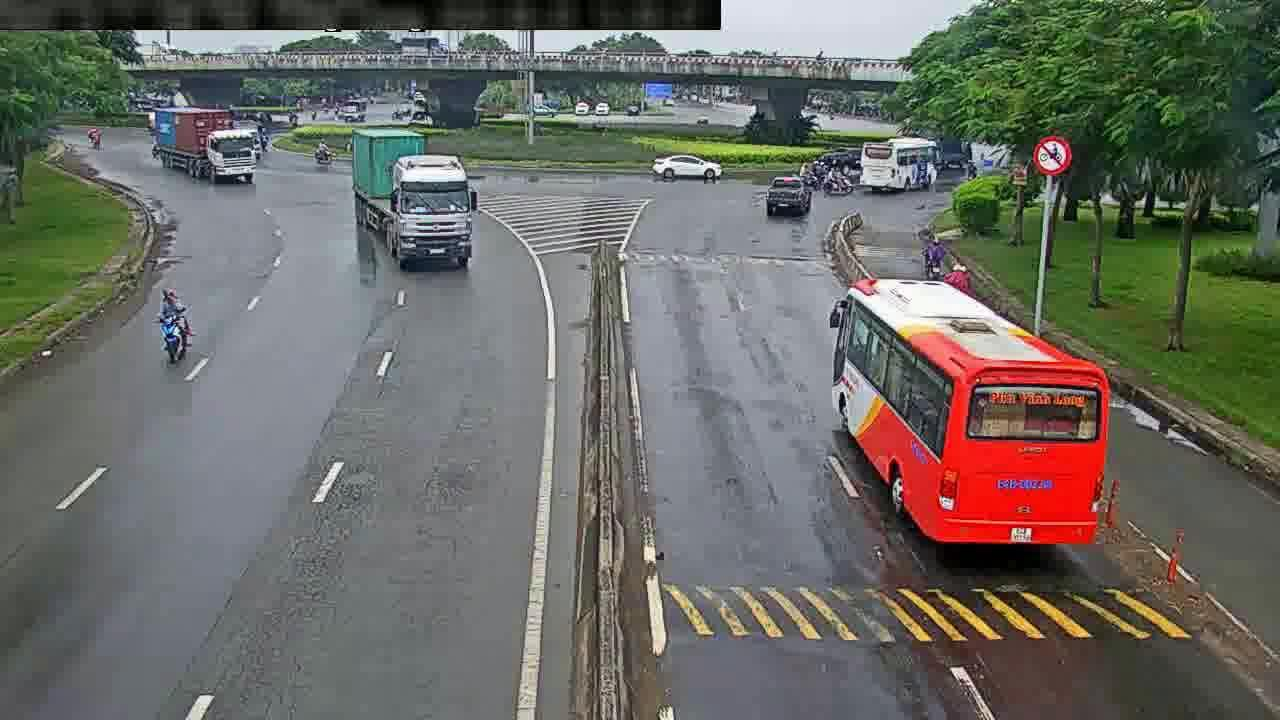14: (823, 277, 1108, 546), (869, 137, 937, 183)
8: (352, 129, 474, 274), (150, 104, 260, 182)
container: (654, 152, 724, 183), (765, 178, 816, 214)
motorbike: (159, 284, 197, 373), (945, 258, 977, 294), (925, 234, 946, 276)
